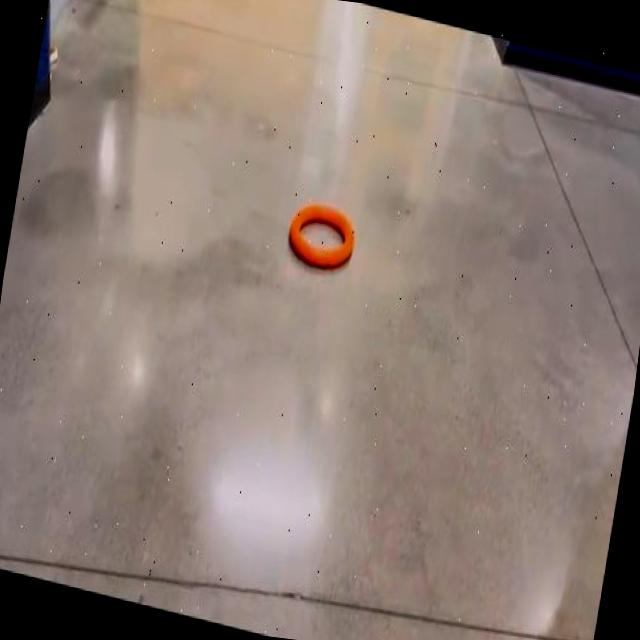note: (288, 202, 353, 266)
